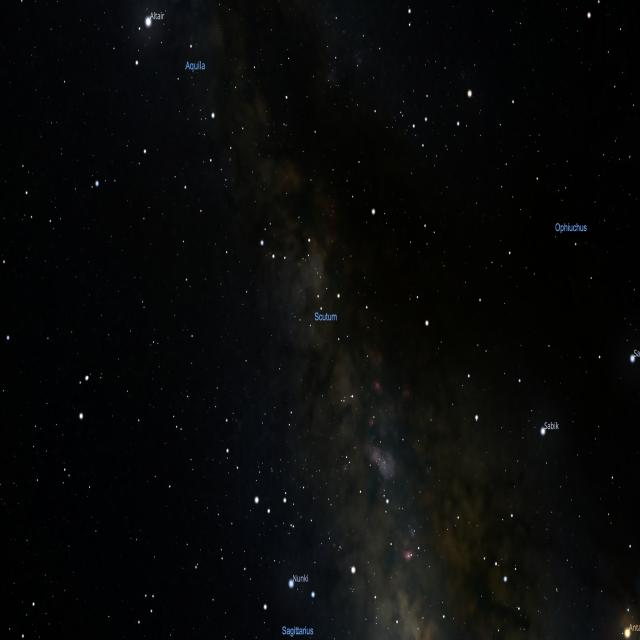Scutum: (285, 233, 357, 422)
